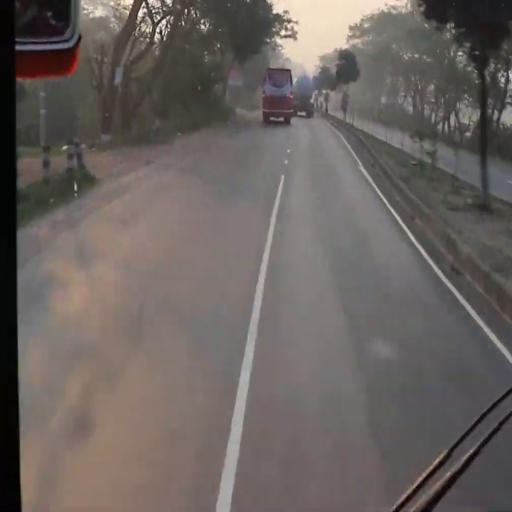bus: (263, 68, 296, 121)
